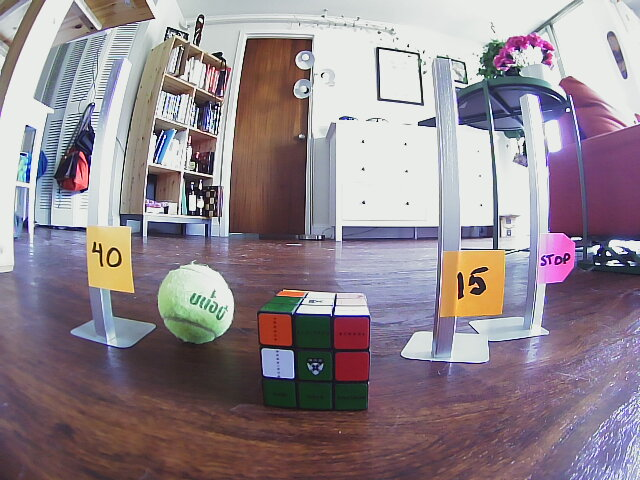15: (440, 249, 505, 317)
40: (85, 230, 131, 290)
ball: (156, 263, 233, 346)
cube: (257, 284, 373, 409)
stop: (538, 233, 574, 283)
